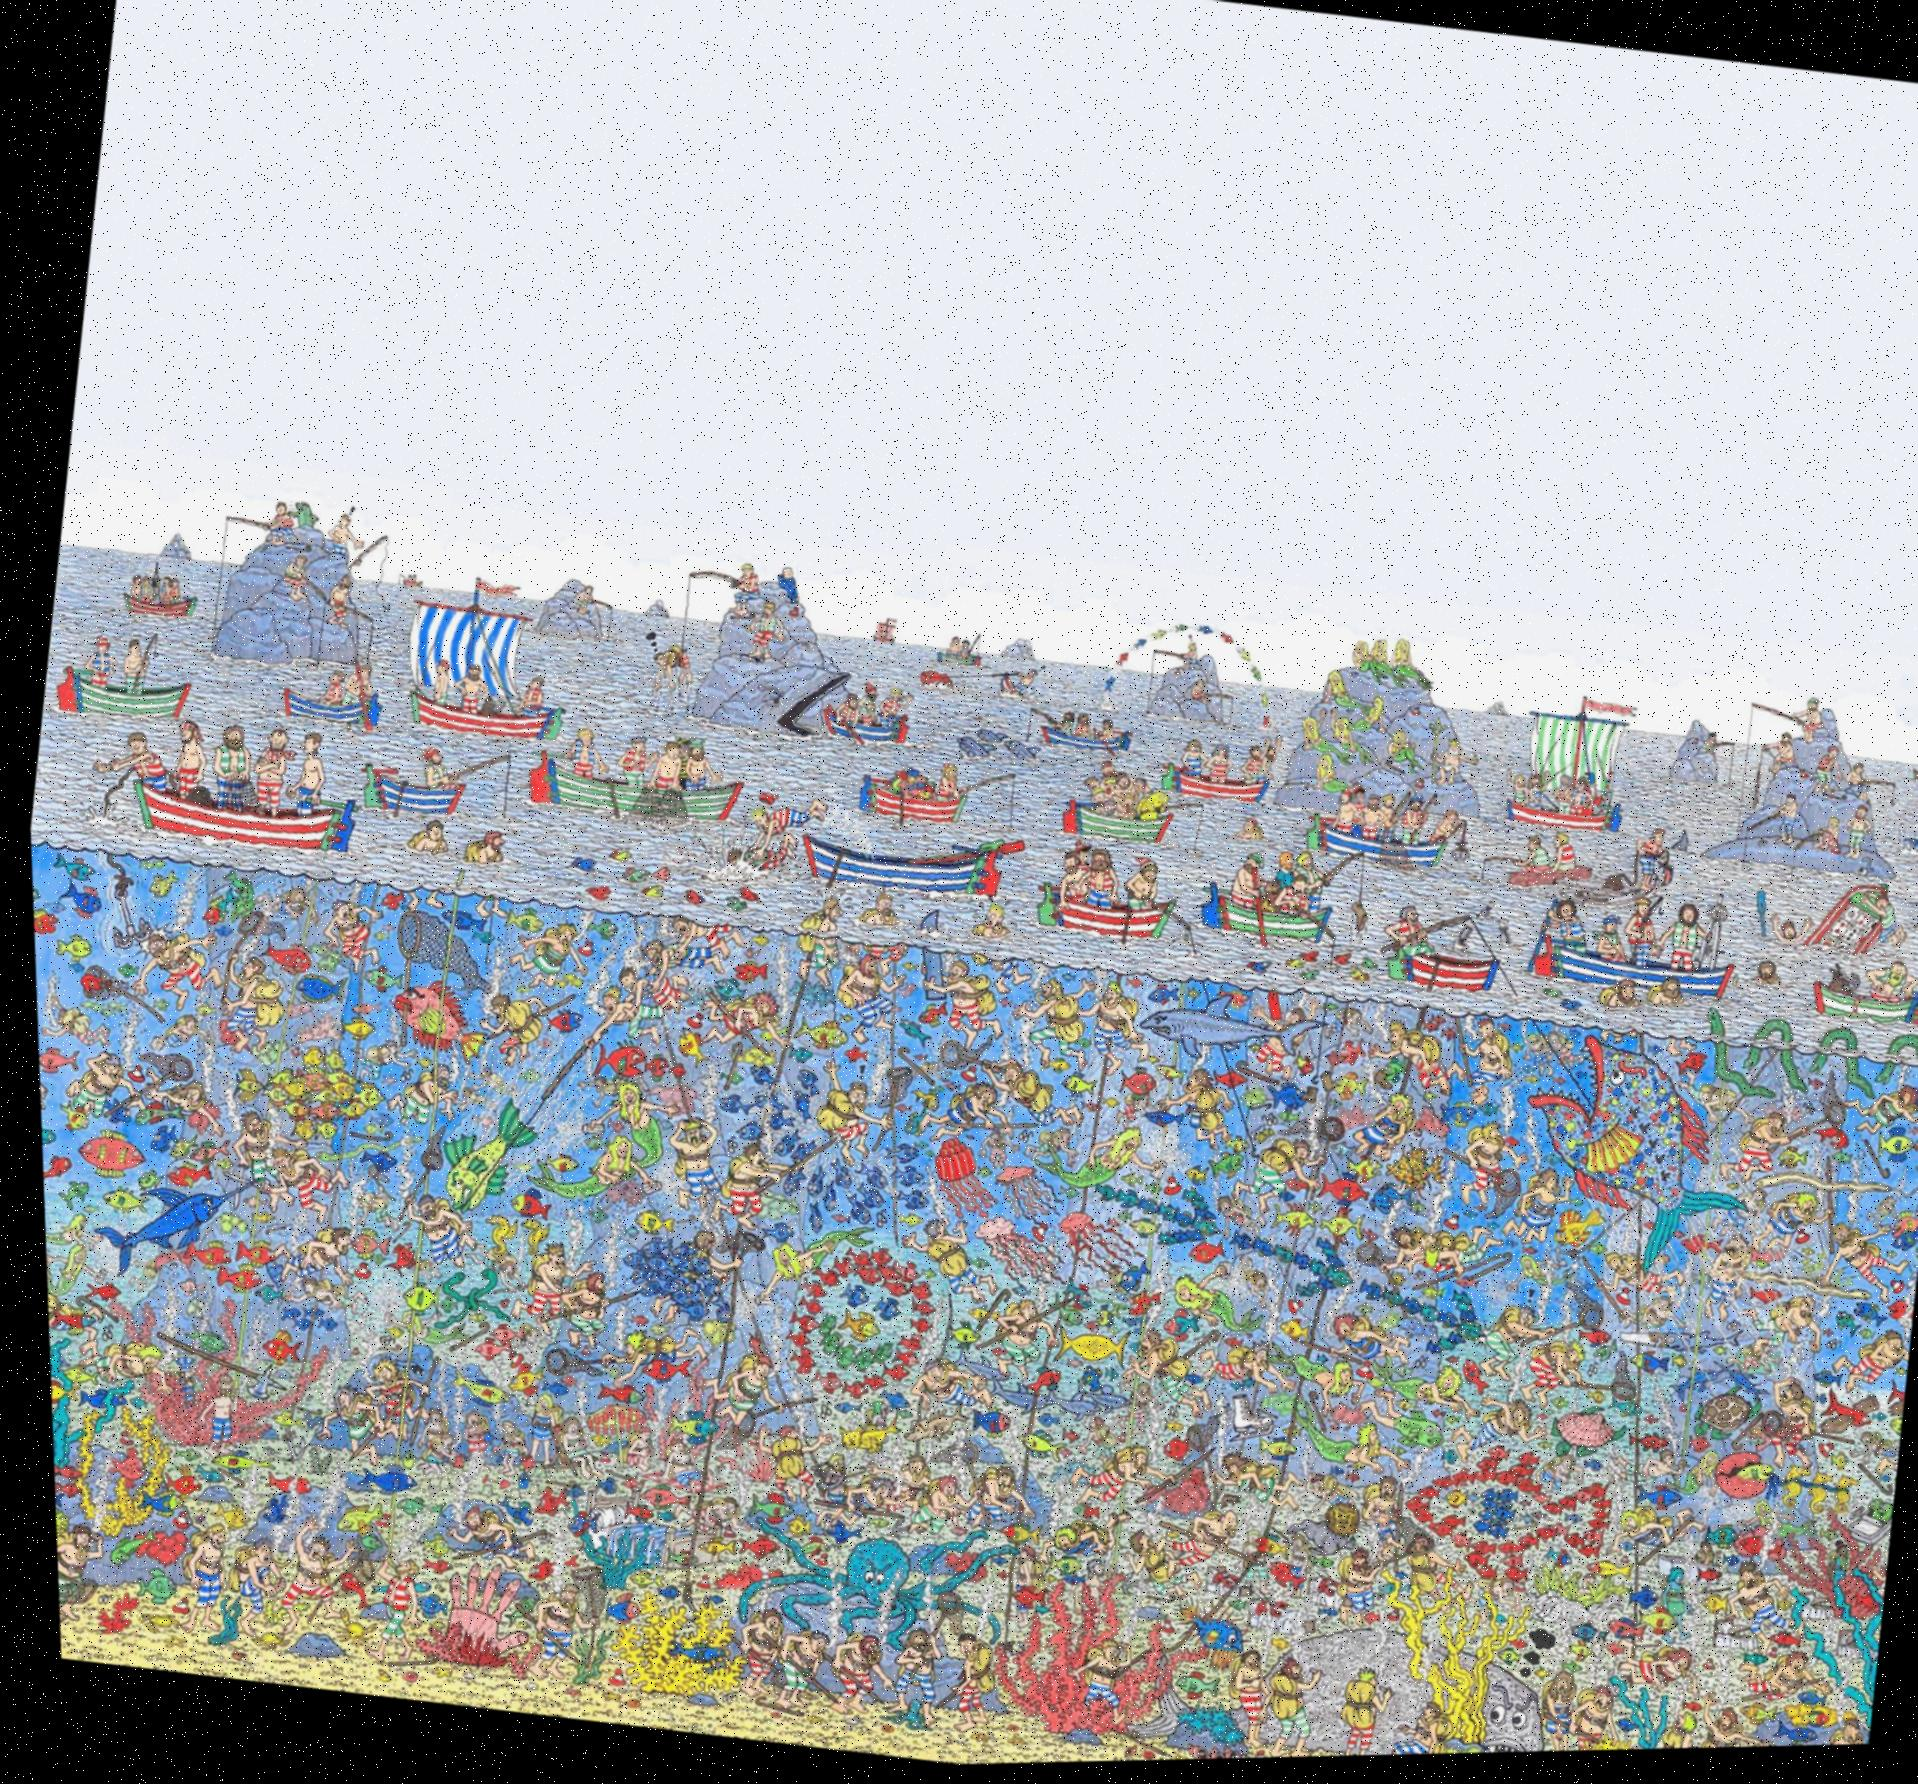waldo: (1343, 786, 1365, 812)
